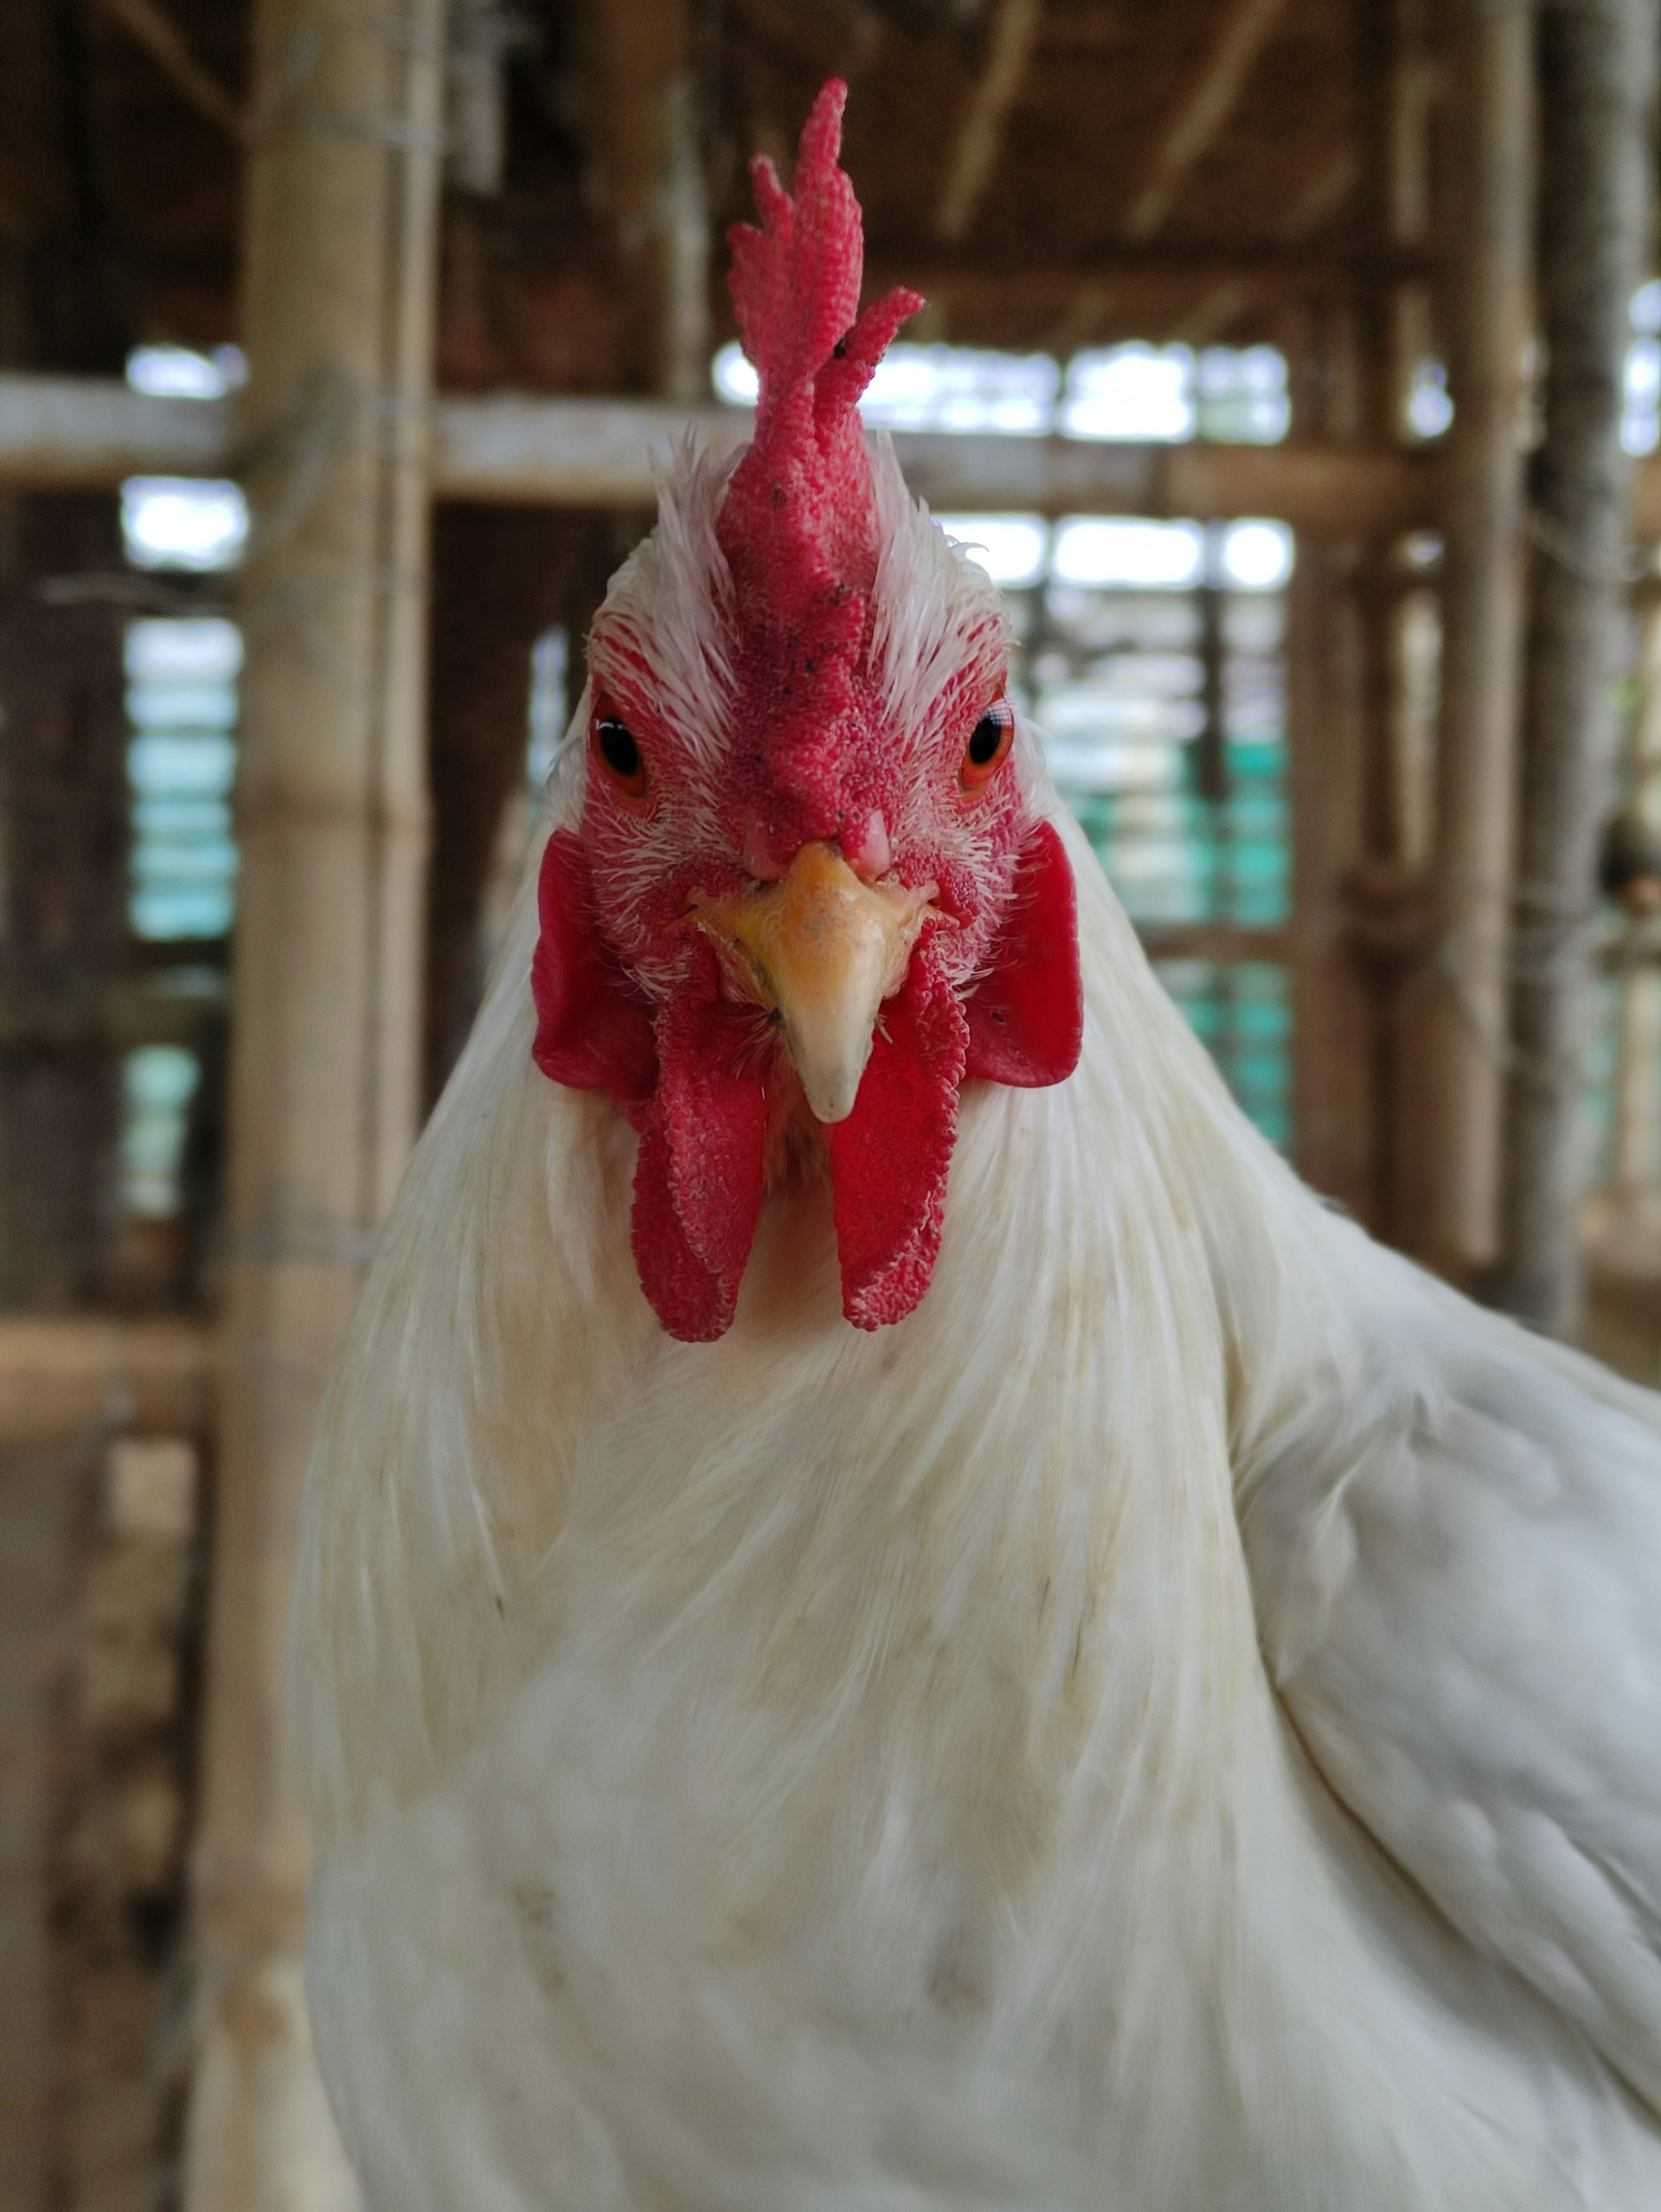hen: (279, 77, 1661, 2212)
